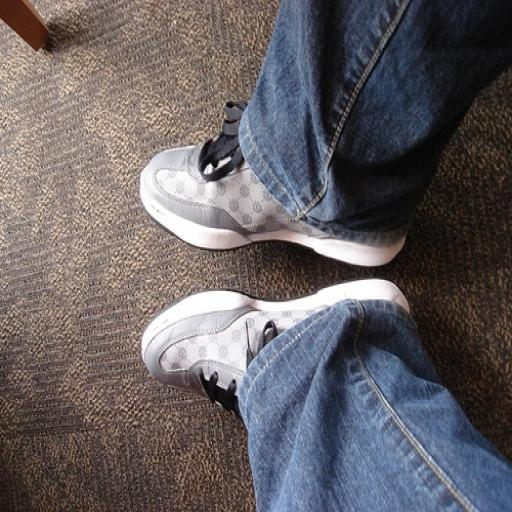shoe: (140, 102, 404, 266), (141, 279, 409, 415)
